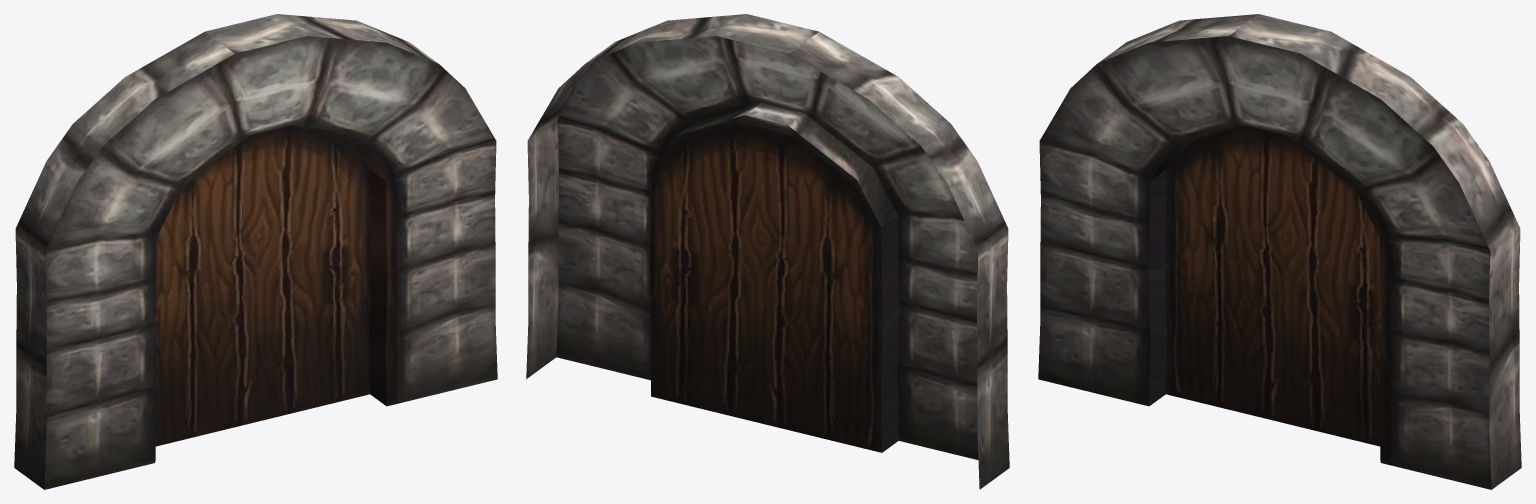
The model's file is puerta.fbx.
3 renders of one model, left to right at view 1: azimuth 30°, elevation 25°; view 2: azimuth 150°, elevation 25°; view 3: azimuth 330°, elevation 25°, orthographic.
Parts seen in each view (by area): view 1: Box004; view 2: Box004; view 3: Box004.
Part boxes in pixels (x1,y1,x2,y2): Box004: (14, 14, 497, 489); Box004: (526, 14, 1009, 489); Box004: (1038, 14, 1521, 489).
Size of the model in its own units: 7.4 by 6.08 by 0.8536.
